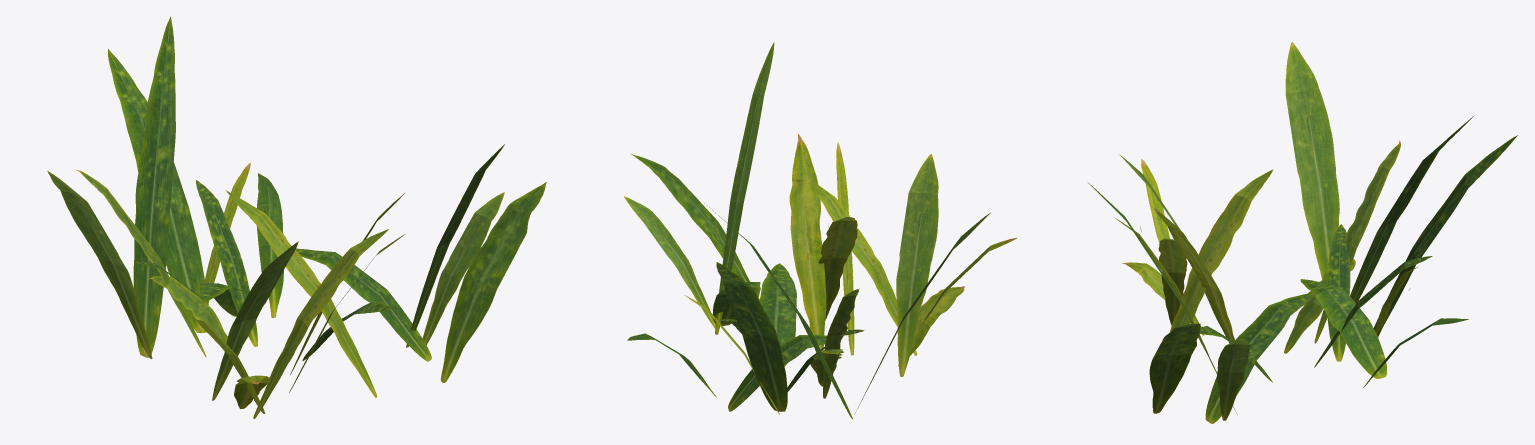
Rendered from grass_02.glb.
3 renders of one model, left to right at view 1: azimuth 30°, elevation 25°; view 2: azimuth 150°, elevation 25°; view 3: azimuth 270°, elevation 25°, orthographic. The views are drawn at different scales.
Parts seen in each view (by area): view 1: grass_02; view 2: grass_02; view 3: grass_02.
Part boxes in pixels (box(x1,y1,x2,y2)): grass_02: box(47, 16, 546, 418); grass_02: box(624, 42, 1017, 418); grass_02: box(1087, 42, 1517, 423).
Size of the model in its own units: 1.18 by 0.6458 by 0.998.
1 material, 1 textured.
